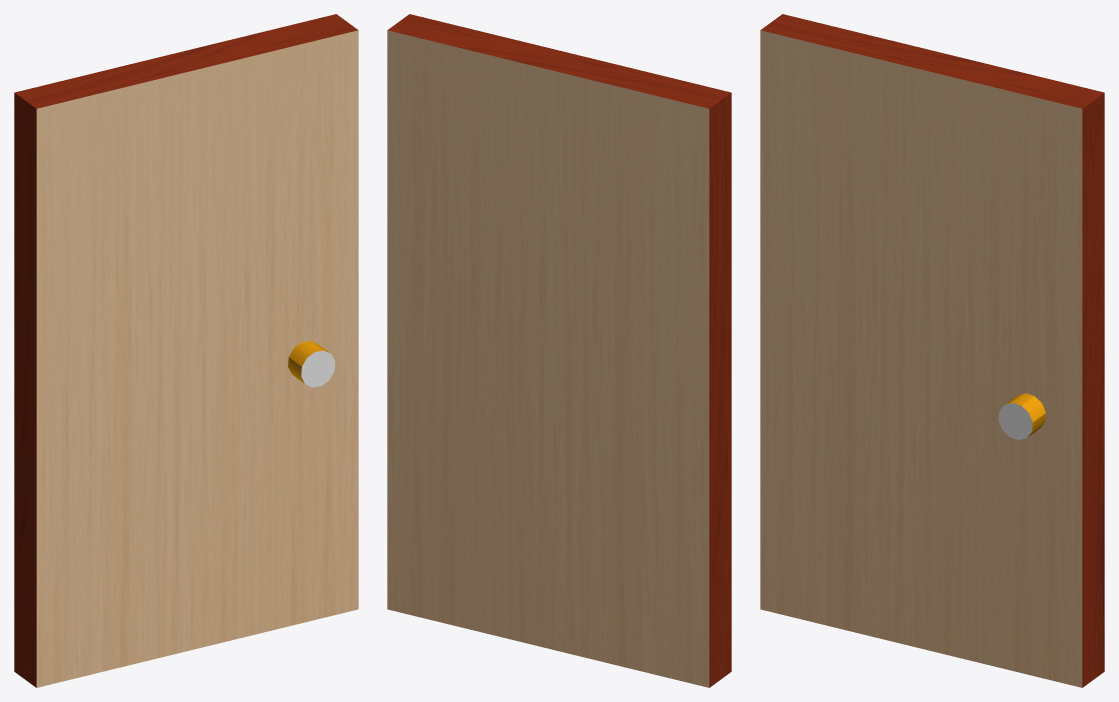
File: door.obj
3 views of the same model, side by side, from view 1: azimuth 30°, elevation 25°; view 2: azimuth 150°, elevation 25°; view 3: azimuth 330°, elevation 25° (orthographic).
Parts seen in each view (by area): view 1: 矩形 1, 多边形 1; view 2: 矩形 1; view 3: 矩形 1, 多边形 1.
Part boxes in pixels (x1,y1,x2,y2): 矩形 1: (14, 14, 358, 687); 多边形 1: (288, 341, 335, 387); 矩形 1: (387, 14, 731, 687); 矩形 1: (760, 14, 1104, 687); 多边形 1: (998, 393, 1045, 439).
Size of the model in its own units: 97.44 by 167 by 18.53.
6 materials, 6 textured.
